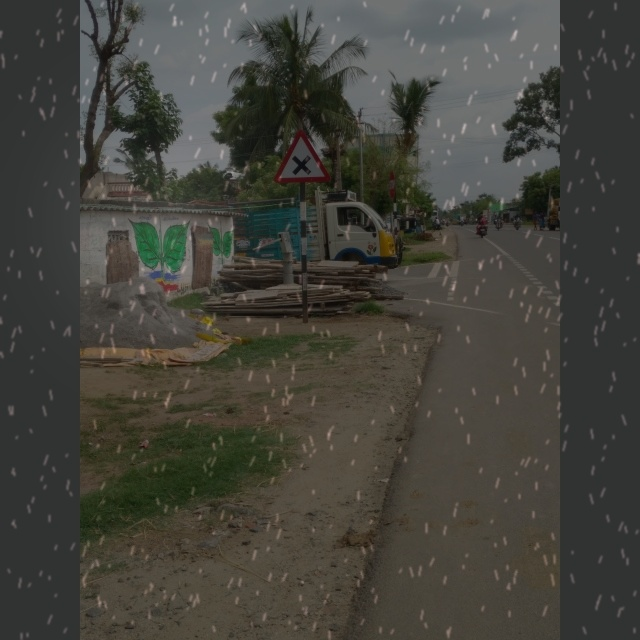Cross_Road: (271, 127, 333, 185)
